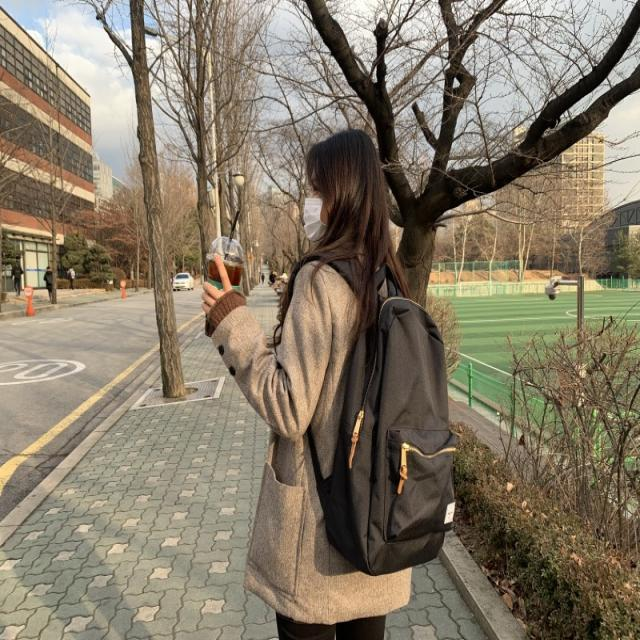backpack: (265, 240, 469, 573)
